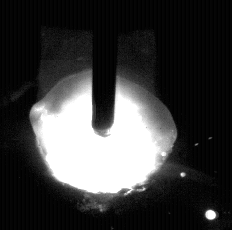arame: (92, 0, 117, 136)
poca: (35, 0, 178, 230)
